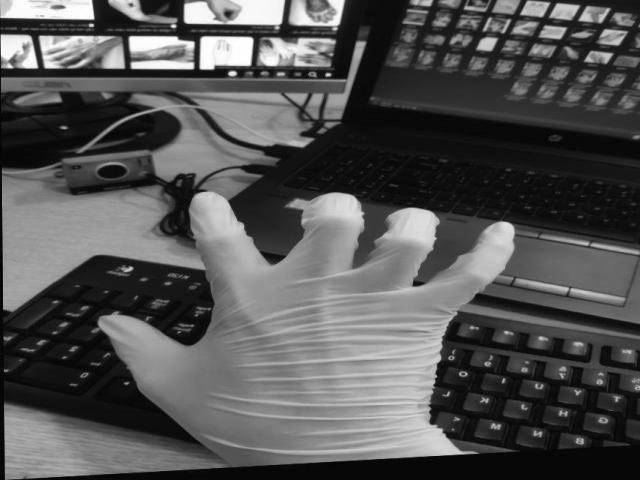gloved: (105, 192, 518, 463)
